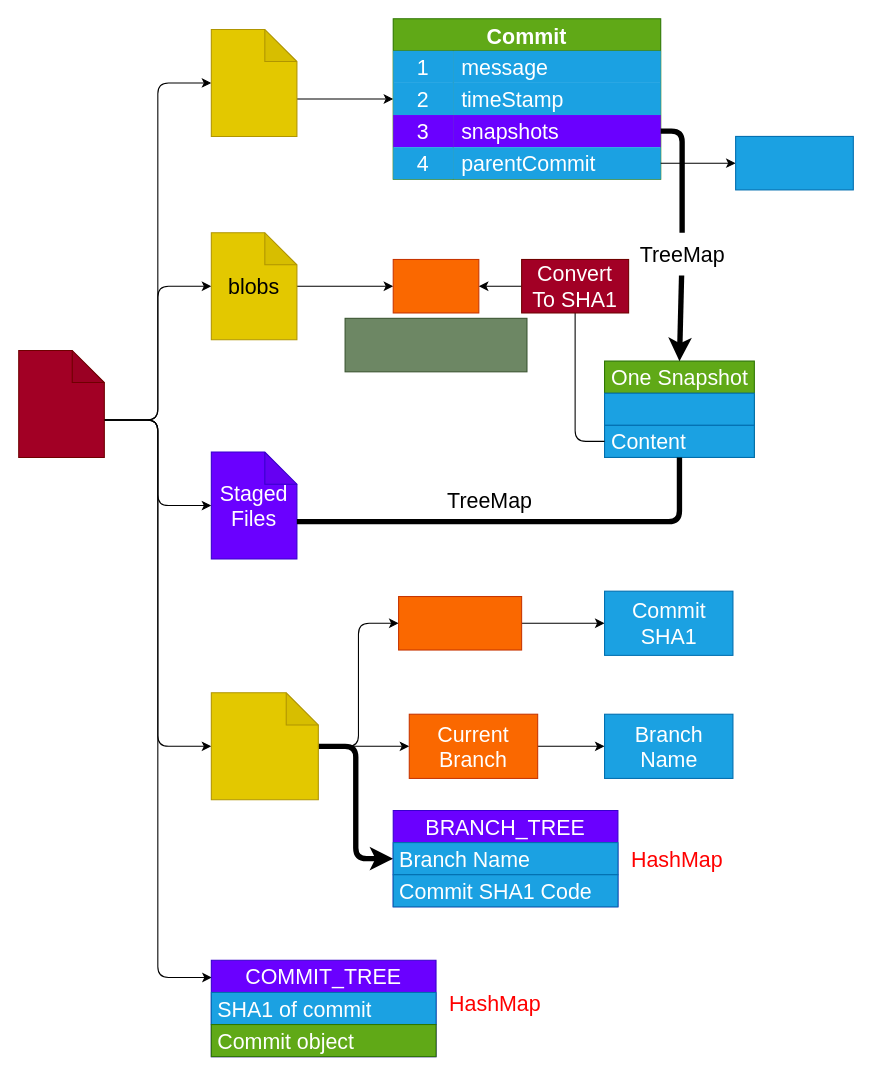
This 872x1075 diagram has some shape labels left out. The shapes that lost their labels are listed below. From the top down, each one's centre as x and y in pixels, then its label:
At (253,82): "commits".
At (794,162): "Parent SHA1".
At (435,285): "Blob".
At (435,344): "Once Committed, Never Change".
At (61,403): ". gitlet".
At (678,408): "File Name".
At (460,622): "HEAD".
At (264,746): "Branches".
